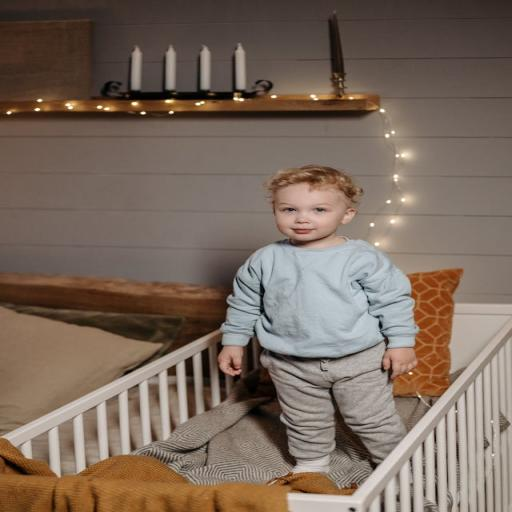baby: (218, 165, 417, 472)
crib: (288, 304, 511, 511)
